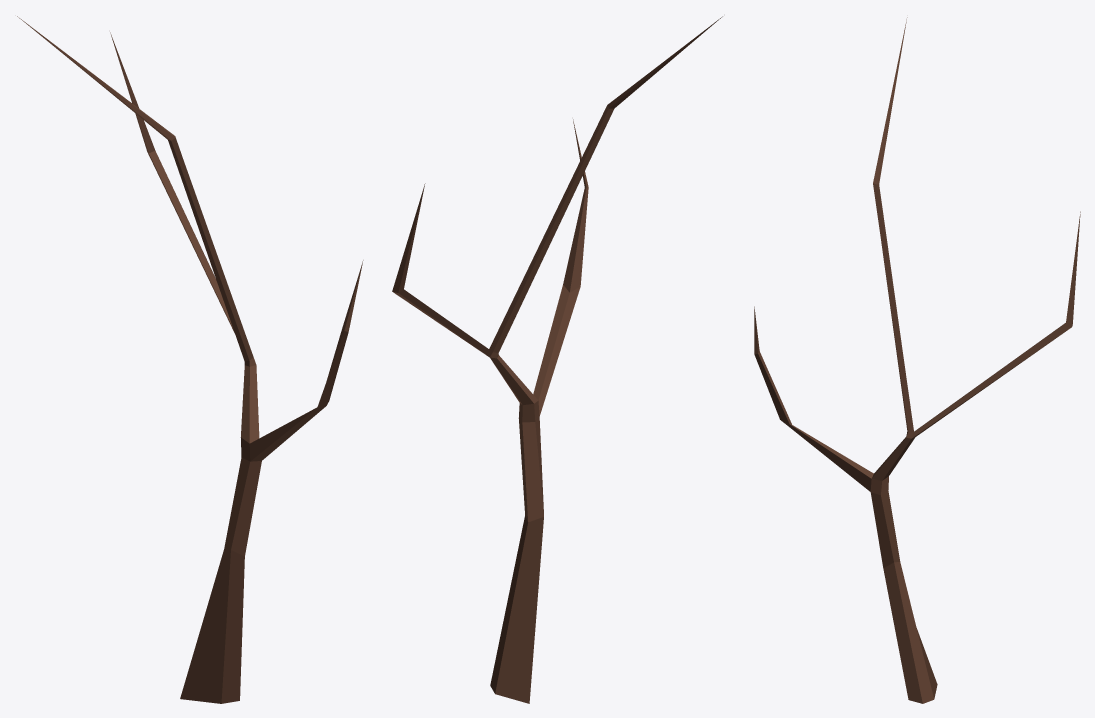
The model's file is TreeTrunk_28.fbx.
The picture shows the model from 3 angles, left to right: view 1: azimuth 30°, elevation 25°; view 2: azimuth 150°, elevation 25°; view 3: azimuth 270°, elevation 25°; orthographic projection. The views are drawn at different scales.
Visible parts, largest first — view 1: TreeTrunk_28; view 2: TreeTrunk_28; view 3: TreeTrunk_28.
Part boxes in pixels (x1,y1,x2,y2): TreeTrunk_28: (17, 16, 363, 703); TreeTrunk_28: (392, 16, 722, 703); TreeTrunk_28: (754, 17, 1080, 703).
Size of the model in its own units: 202 by 564 by 279.
